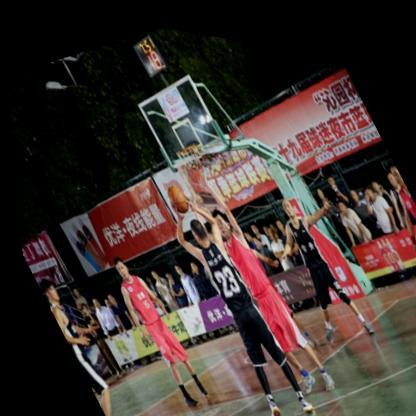basketball: (159, 175, 190, 213)
